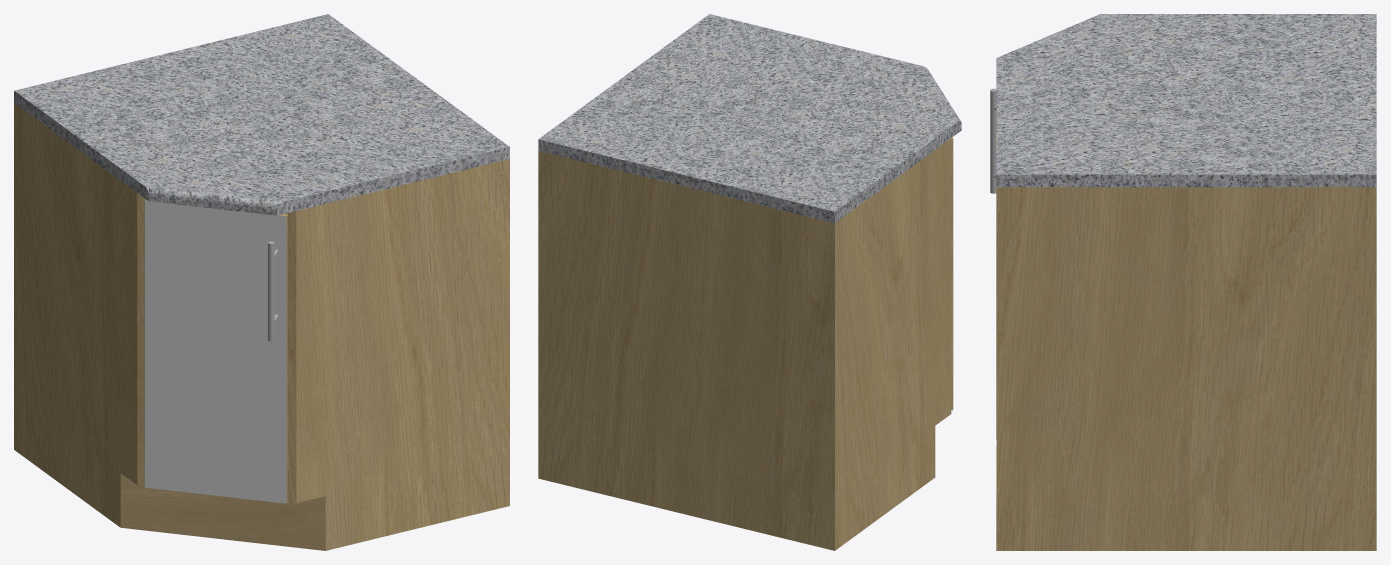
The model's file is lowerCornerCabinet.obj.
The picture shows the model from 3 angles, left to right: view 1: azimuth 30°, elevation 25°; view 2: azimuth 150°, elevation 25°; view 3: azimuth 270°, elevation 25°; orthographic projection. The views are drawn at different scales.
Parts seen in each view (by area): view 1: Cube.001; view 2: Cube.001; view 3: Cube.001.
Boxes of the visible parts, x1=… form: Cube.001: x1=14, y1=14, x2=509, y2=550; Cube.001: x1=538, y1=14, x2=961, y2=550; Cube.001: x1=990, y1=14, x2=1376, y2=550.
Size of the model in its own units: 81 by 88.48 by 82.31.
